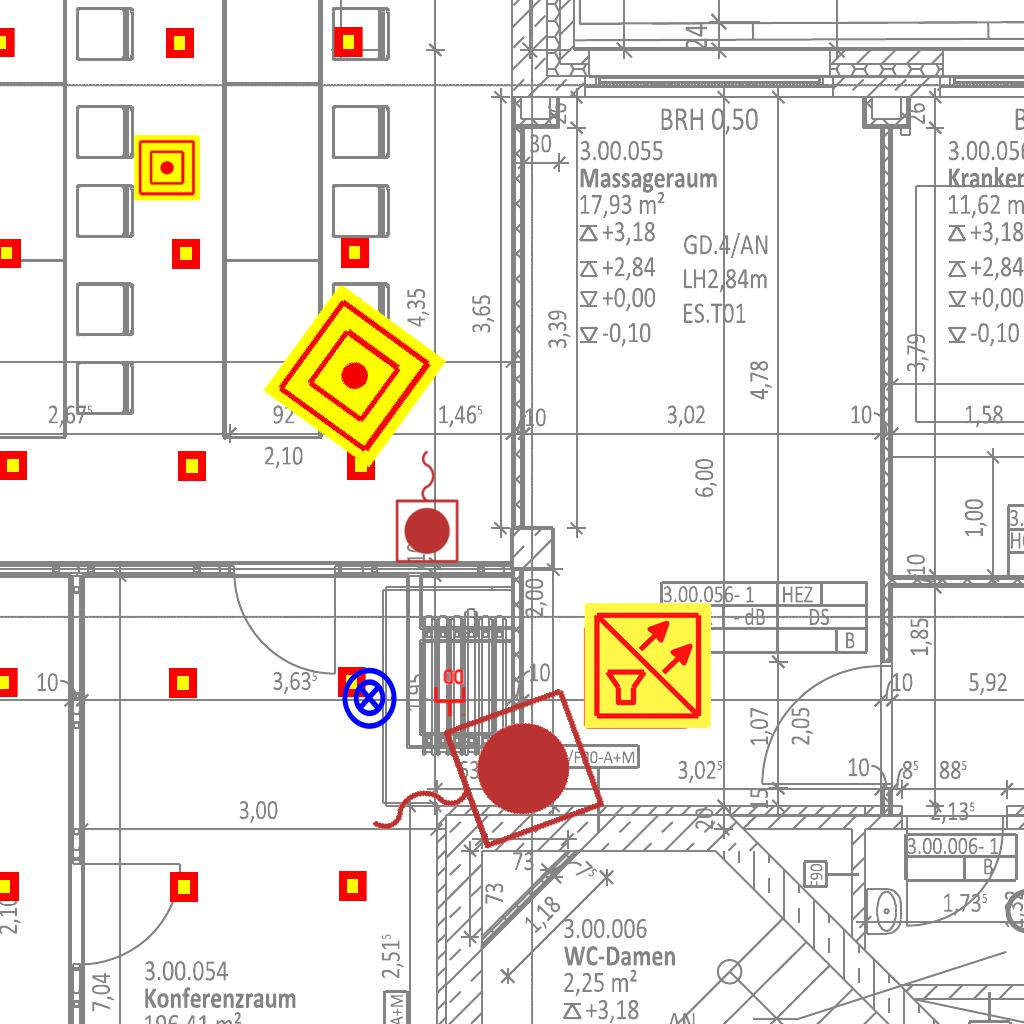Datenanschluss_zweifach: (432, 667, 466, 718)
NAM-Nichtautomatischer_Melder: (262, 283, 448, 469), (134, 135, 200, 201)
OKW_Multisensormelder_(Kombination_optischer_Rauch-Kahlenmonoxid_Waerme-Melder): (582, 600, 714, 732)
Taster_beleuchtet: (336, 665, 402, 731)
Zugtaster: (336, 674, 616, 894), (392, 445, 464, 567)
